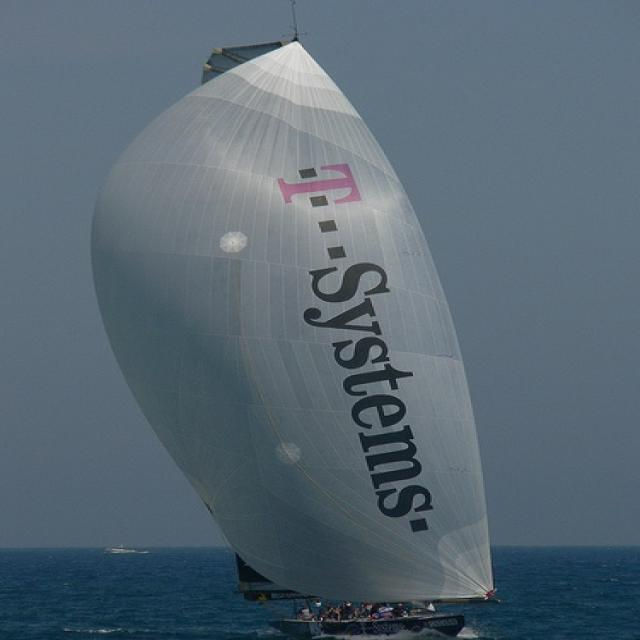boat: (91, 36, 500, 639)
